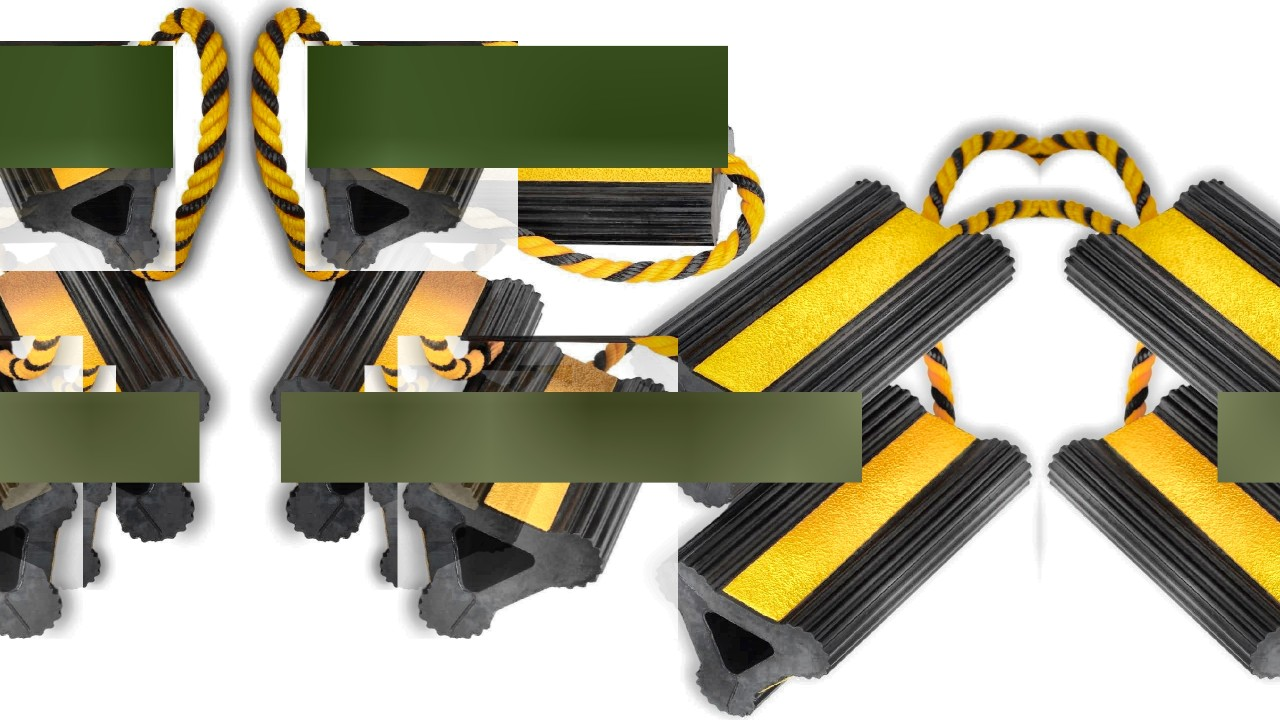chock: (641, 384, 1034, 717), (623, 178, 1016, 507), (265, 236, 548, 542), (397, 336, 678, 639), (321, 52, 736, 249), (1046, 384, 1280, 717), (1064, 178, 1280, 507), (0, 236, 215, 542), (305, 41, 518, 271), (364, 365, 572, 590), (0, 41, 175, 271), (0, 52, 159, 249), (0, 365, 115, 590), (0, 336, 83, 639)
